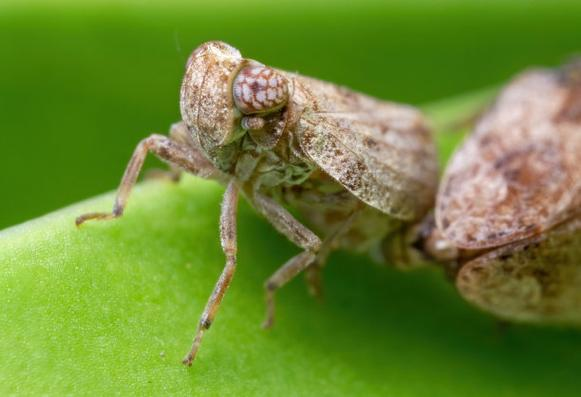Delphacidae: (72, 38, 502, 369)
